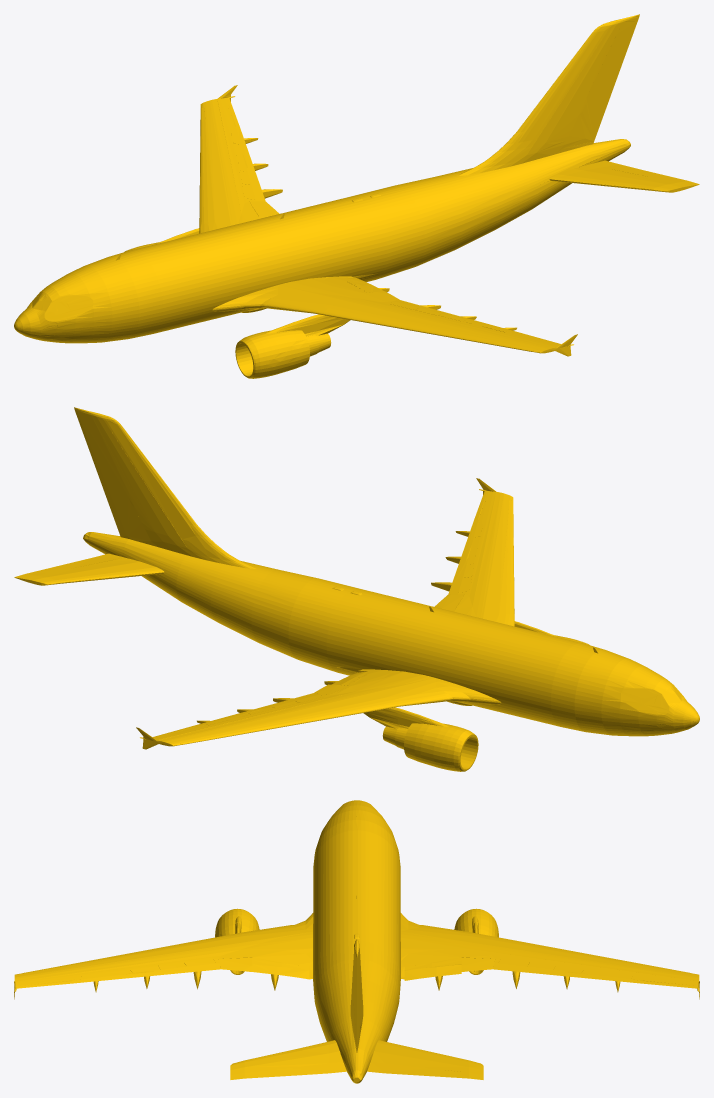
3 renders of one model, top to bottom at view 1: azimuth 30°, elevation 25°; view 2: azimuth 150°, elevation 25°; view 3: azimuth 270°, elevation 25°, orthographic.
Size of the model in its own units: 46.69 by 15.06 by 44.02.
